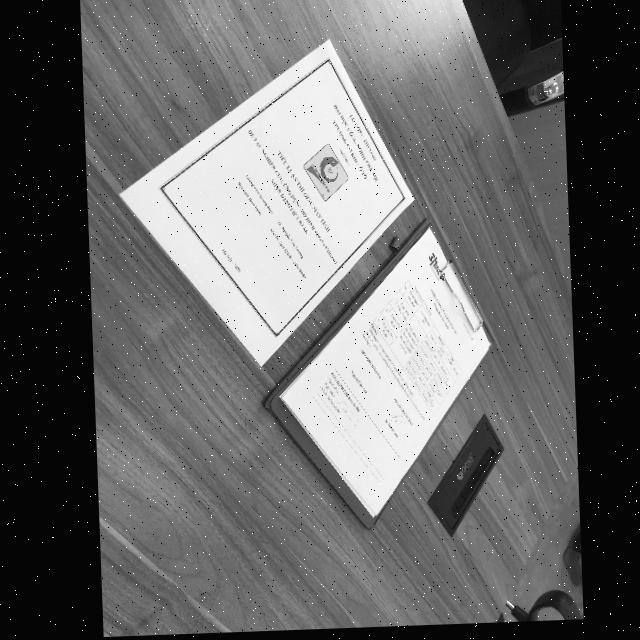document: (120, 41, 414, 365), (279, 228, 491, 519)
